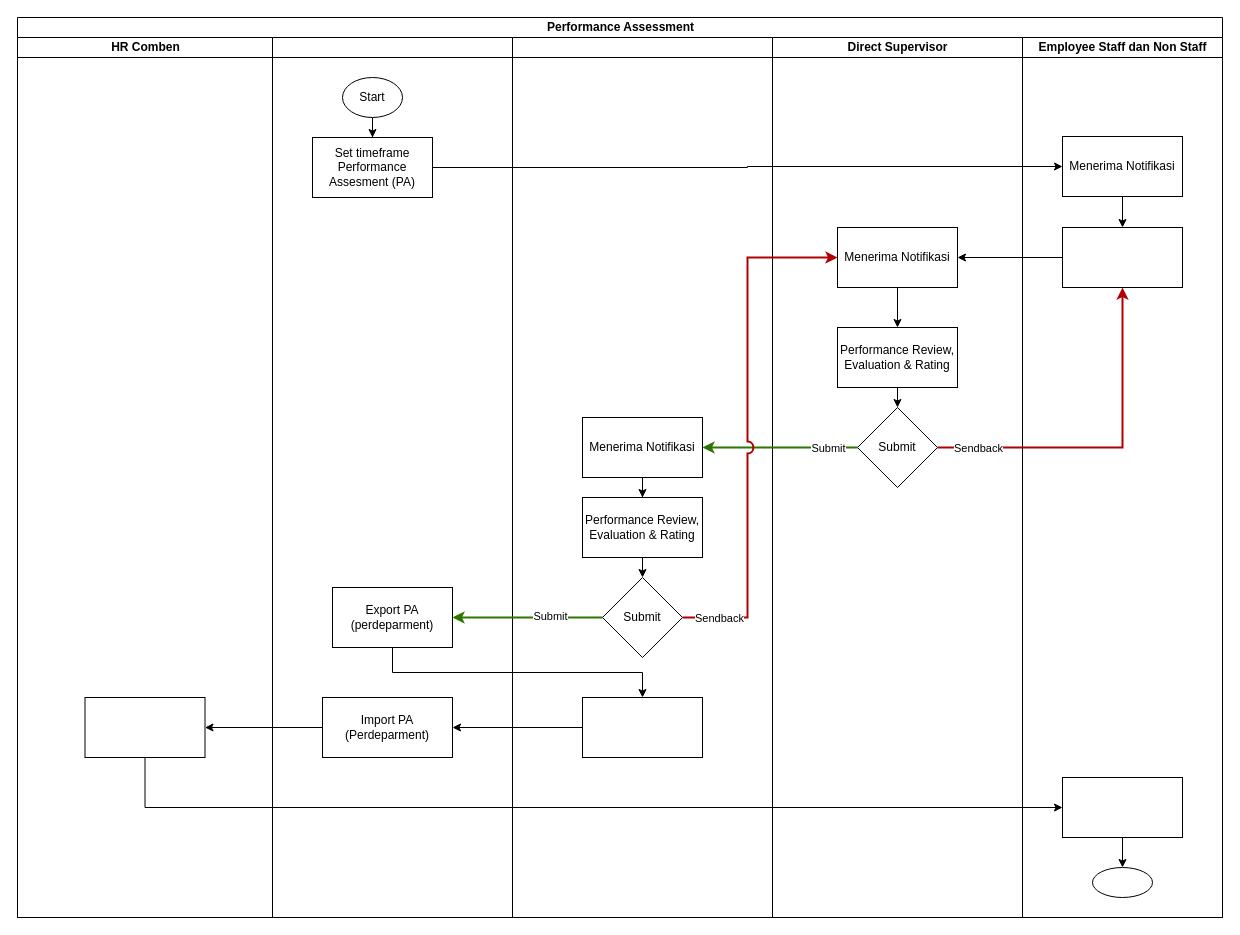
This 1240x935 diagram has some shape labels left out. The shapes that lost their labels are listed below. From the top down, each one's box as (x1, y1, x2, y2) in pixels, then its label:
(1062, 226, 1182, 288): Self Rating PA
(272, 36, 512, 918): Organization Development Section
(512, 36, 772, 918): Senior Manager/Dept Head/ One Up Spv
(84, 696, 205, 758): Final Rating
(582, 696, 702, 758): out of system Normalisasi Dept (Dept Head/ SM)
(1062, 776, 1182, 838): Menerima Notifikasi FInal rating
(1092, 866, 1152, 898): End
